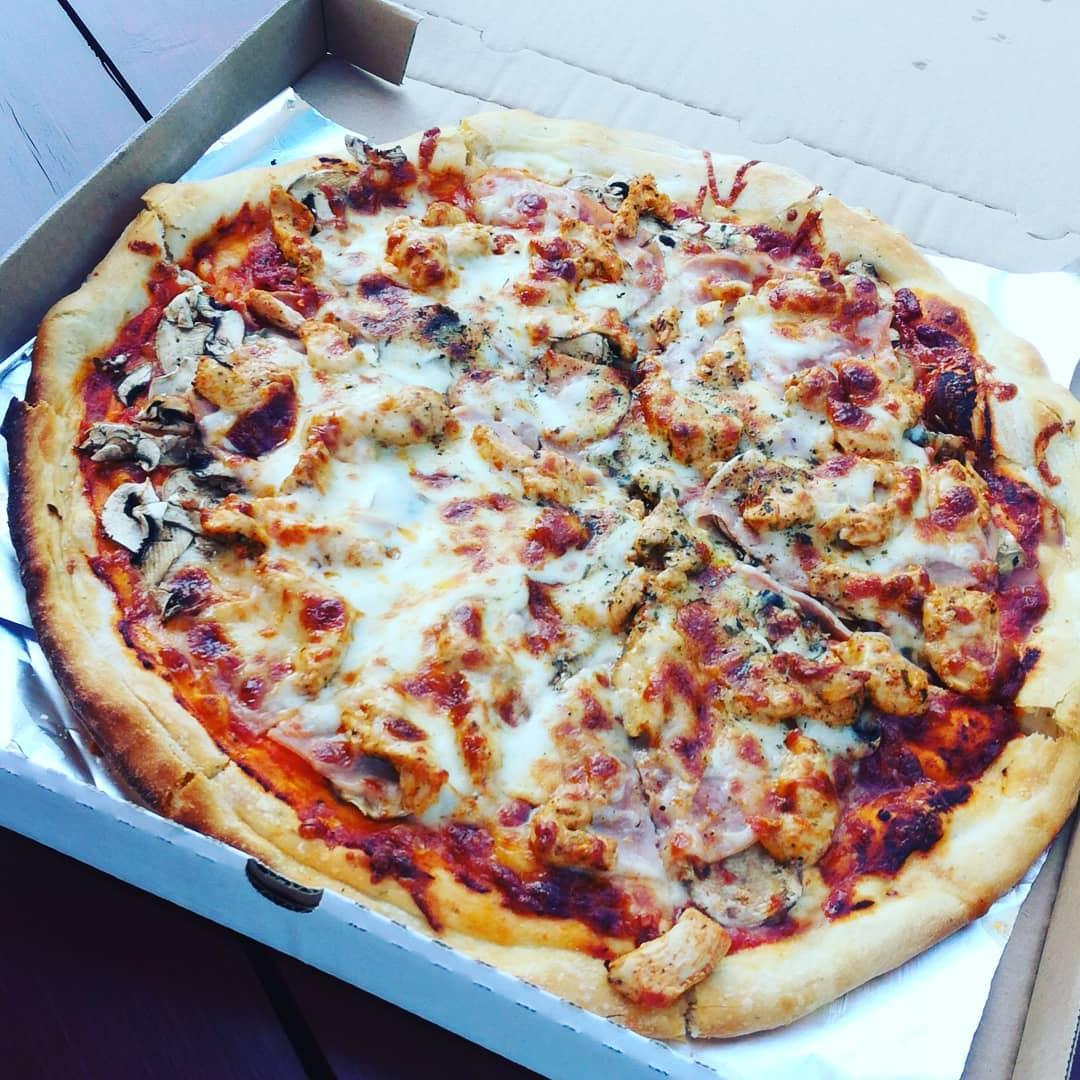Chicken: (597, 905, 733, 1007), (342, 134, 406, 166)
Mushroom: (92, 290, 232, 563), (685, 842, 807, 930), (547, 325, 618, 372), (288, 170, 346, 222), (603, 172, 633, 215)
Pizza: (25, 125, 1080, 1037)
